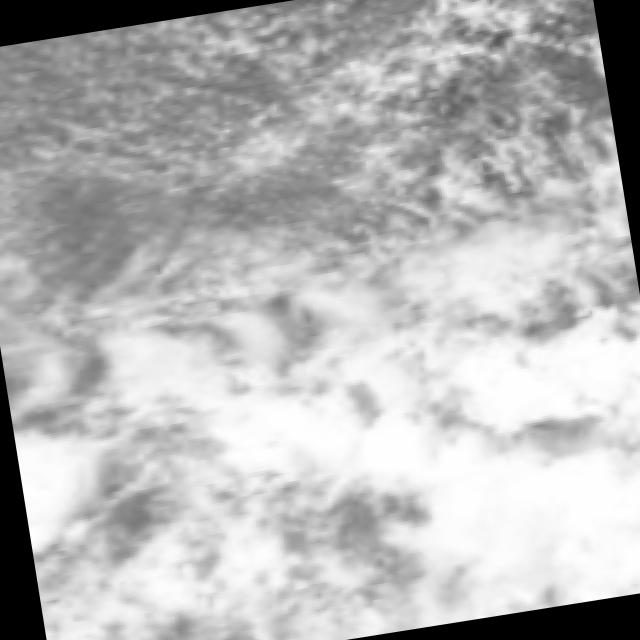CB: (449, 448, 640, 597)
